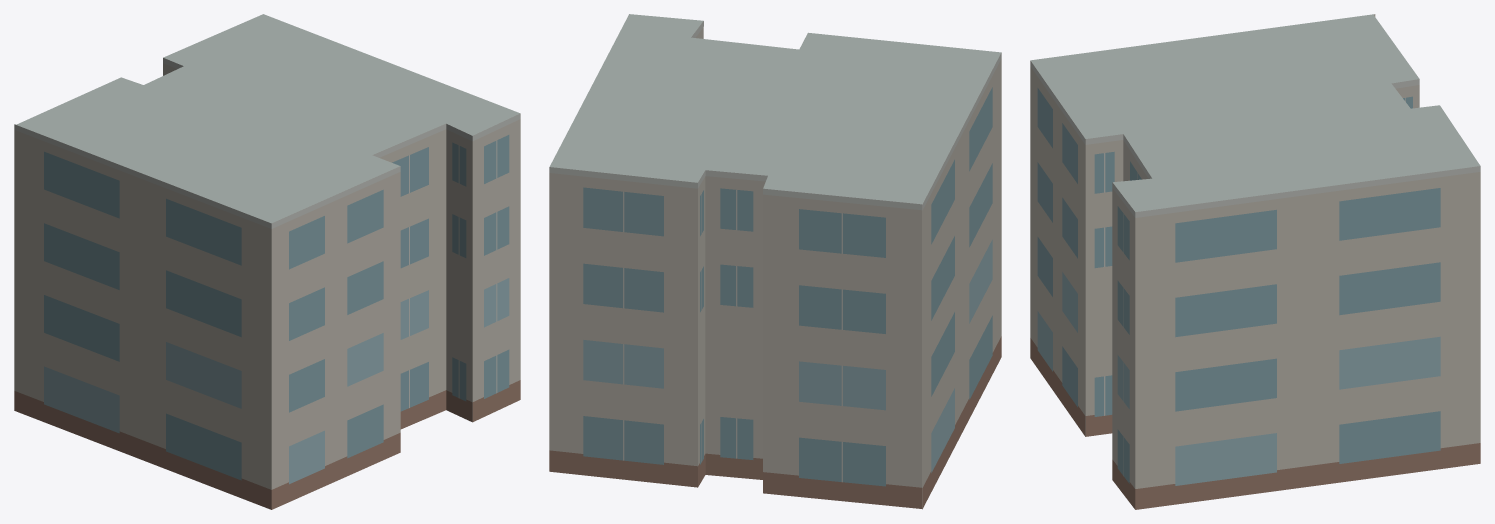
Rendered from survey-upis-32771993.glb.
The picture shows the model from 3 angles, left to right: view 1: azimuth 30°, elevation 25°; view 2: azimuth 150°, elevation 25°; view 3: azimuth 270°, elevation 25°; orthographic projection. The views are drawn at different scales.
Parts seen in each view (by area): view 1: survey-upis-32771993.tmp; view 2: survey-upis-32771993.tmp; view 3: survey-upis-32771993.tmp.
Part boxes in pixels (bbox=[...]): survey-upis-32771993.tmp: bbox=[14, 14, 520, 509]; survey-upis-32771993.tmp: bbox=[549, 14, 1001, 509]; survey-upis-32771993.tmp: bbox=[1030, 14, 1480, 509].
Bounding box in the file's own units: 17.86 × 12.5 × 17.15.
